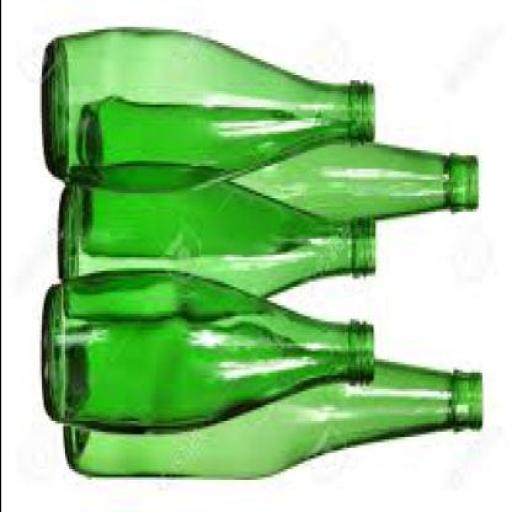glass: (81, 100, 479, 260), (42, 27, 376, 196), (64, 352, 482, 486), (45, 273, 372, 437), (60, 167, 374, 327)
